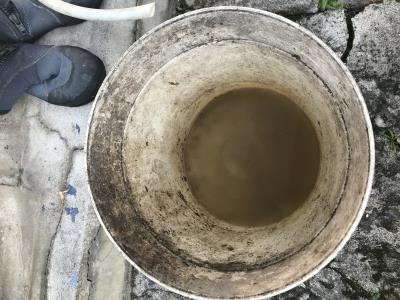bucket: (82, 4, 378, 300)
